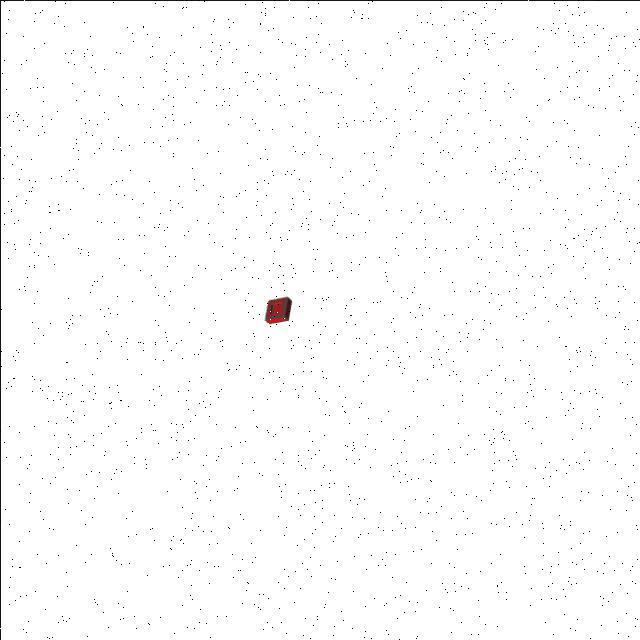3070b: (260, 292, 294, 326)
